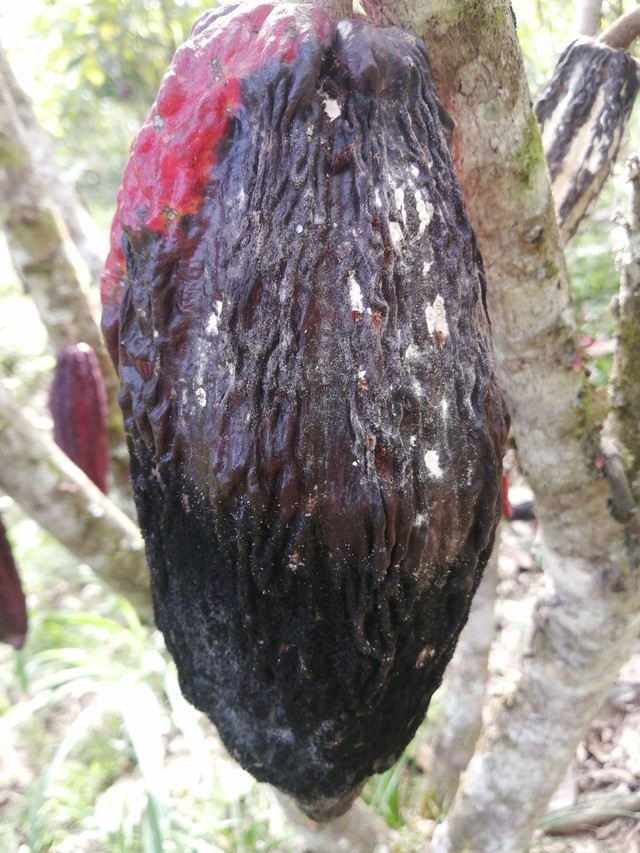moniliophthora roreri: (97, 0, 529, 837)
